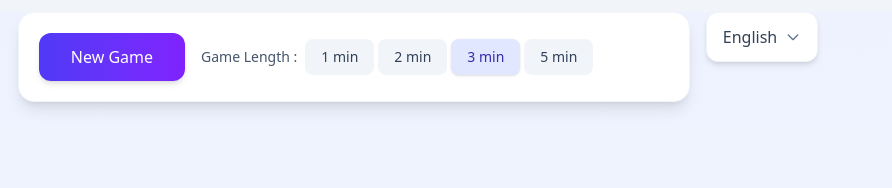
Test case: Controls › displays language selector and changes language when selected
Check: the text "English" is shown, box left=723, top=25, right=777, bottom=49
Click the button "English": (762, 37) left=706, top=12, right=818, bottom=62
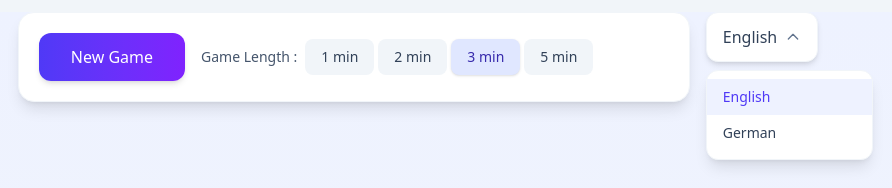
Check: the button "German" is shown, box left=707, top=115, right=872, bottom=151
